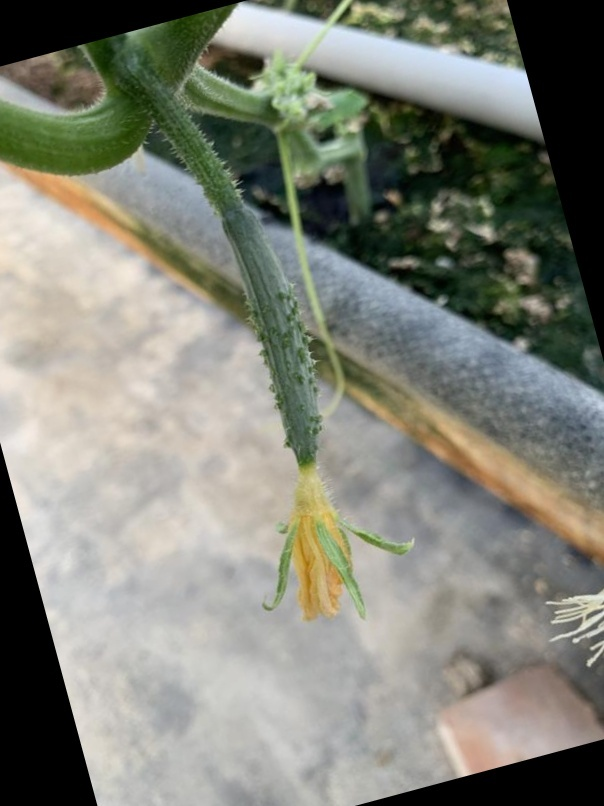bear: (198, 193, 403, 633)
